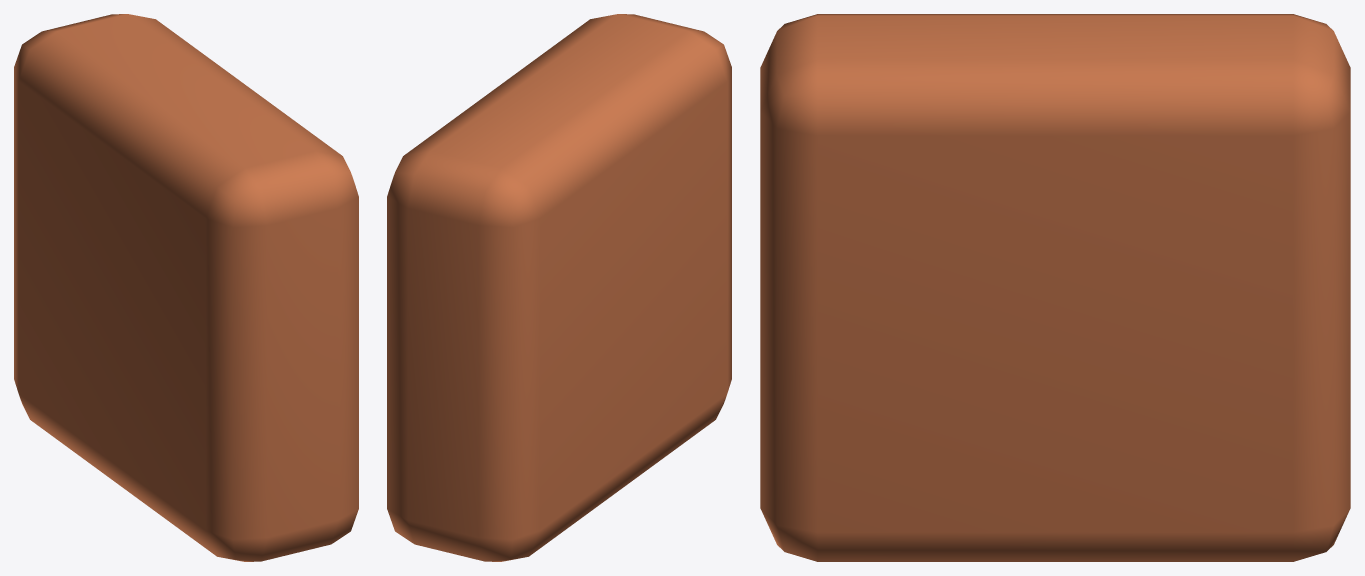
File: SM_brick_03_S.glb
3 renders of one model, left to right at view 1: azimuth 30°, elevation 25°; view 2: azimuth 150°, elevation 25°; view 3: azimuth 270°, elevation 25°, orthographic. The views are drawn at different scales.
Visible parts, largest first — view 1: SM_brick_03_S; view 2: SM_brick_03_S; view 3: SM_brick_03_S.
Part boxes in pixels (left/top/right/bottom): SM_brick_03_S: left=14, top=14, right=358, bottom=561; SM_brick_03_S: left=387, top=14, right=731, bottom=561; SM_brick_03_S: left=760, top=14, right=1350, bottom=561.
Bounding box in the file's own units: 0.0761 × 0.1925 × 0.2058.
1 material, 1 textured.
